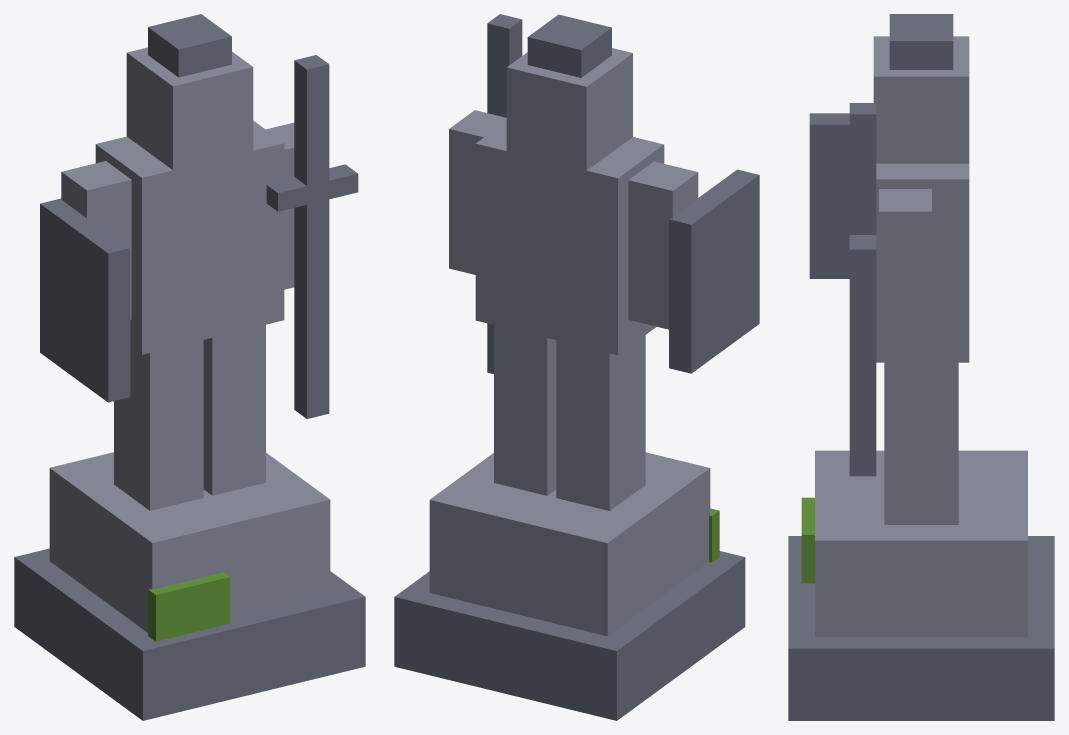
Rendered from Statue.glb.
3 views of the same model, side by side, from view 1: azimuth 30°, elevation 25°; view 2: azimuth 150°, elevation 25°; view 3: azimuth 270°, elevation 25° (orthographic). The views are drawn at different scales.
Parts seen in each view (by area): view 1: Statue; view 2: Statue; view 3: Statue.
Part boxes in pixels (left/top/right/bottom): Statue: left=14, top=14, right=365, bottom=720; Statue: left=394, top=14, right=759, bottom=720; Statue: left=788, top=14, right=1054, bottom=720.
Bounding box in the file's own units: 6.05 × 13.2 × 5.
1 material, 1 textured.
